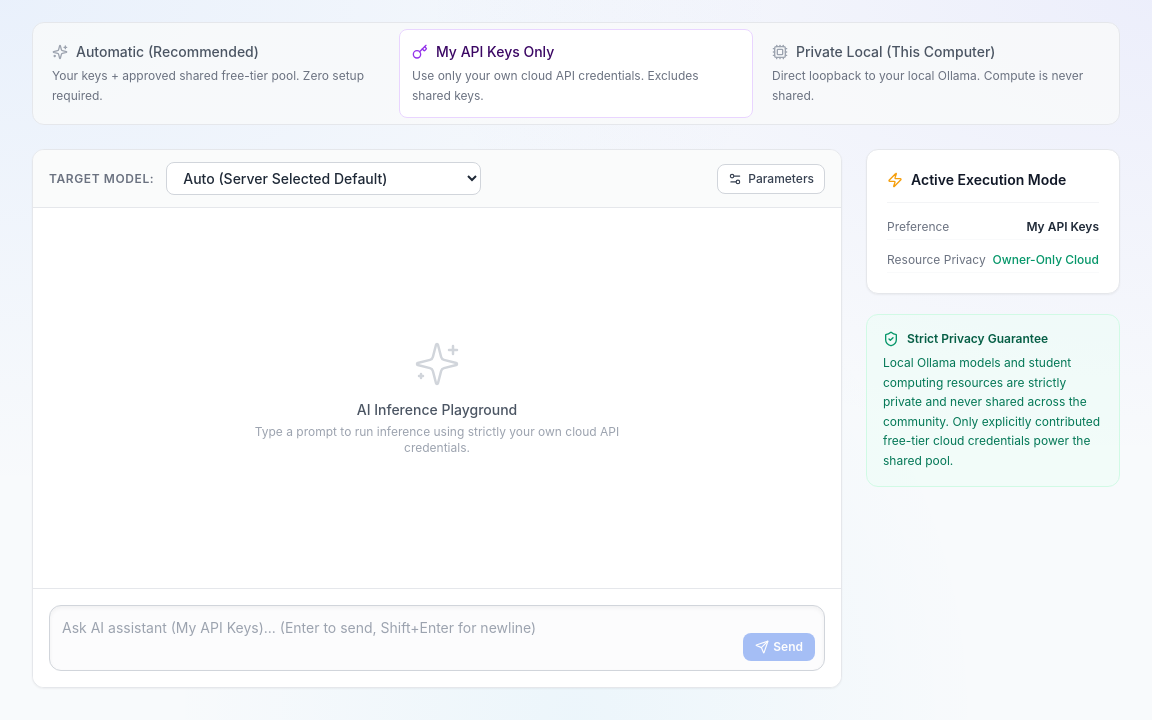
Test case: LocalInferencePage Component › submits cloud inference with credential_scope: 'owner_only' in My API Keys Only mode
The width and height of the screenshot is (1152, 720).
(page scrolled)
Replace the text in the text box with "Private cloud query" at (437, 638), box [49, 605, 825, 671]
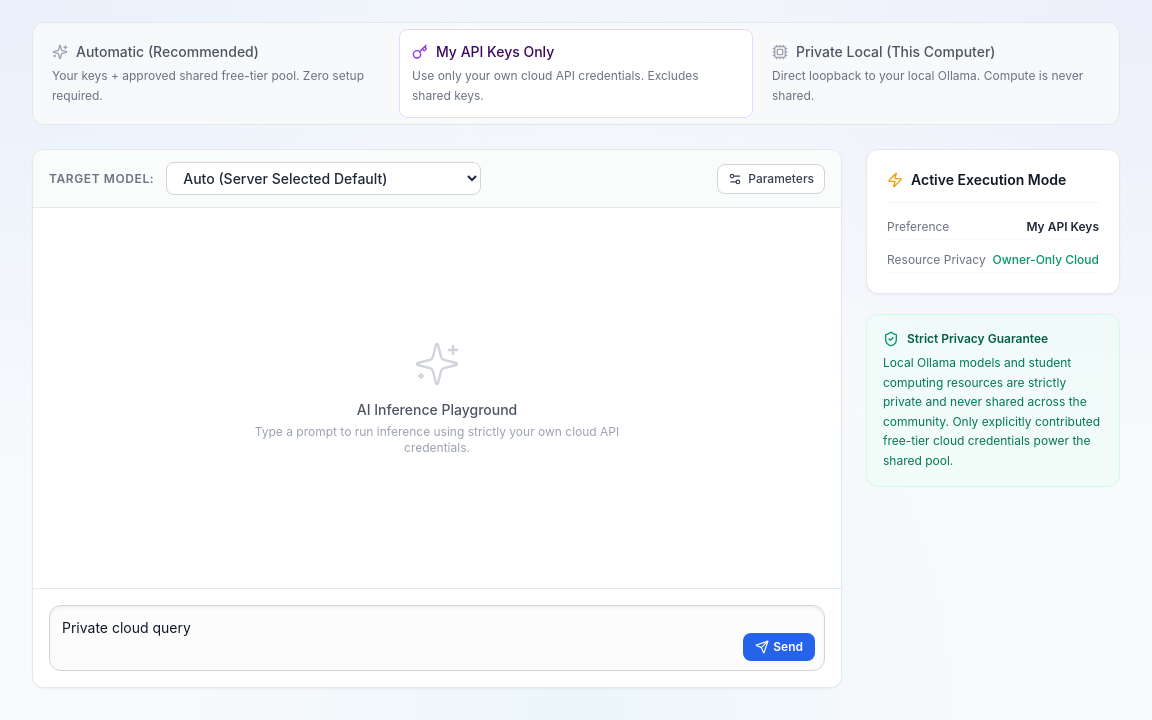
Click the button "Send".
click(779, 647)  # box [743, 633, 815, 661]
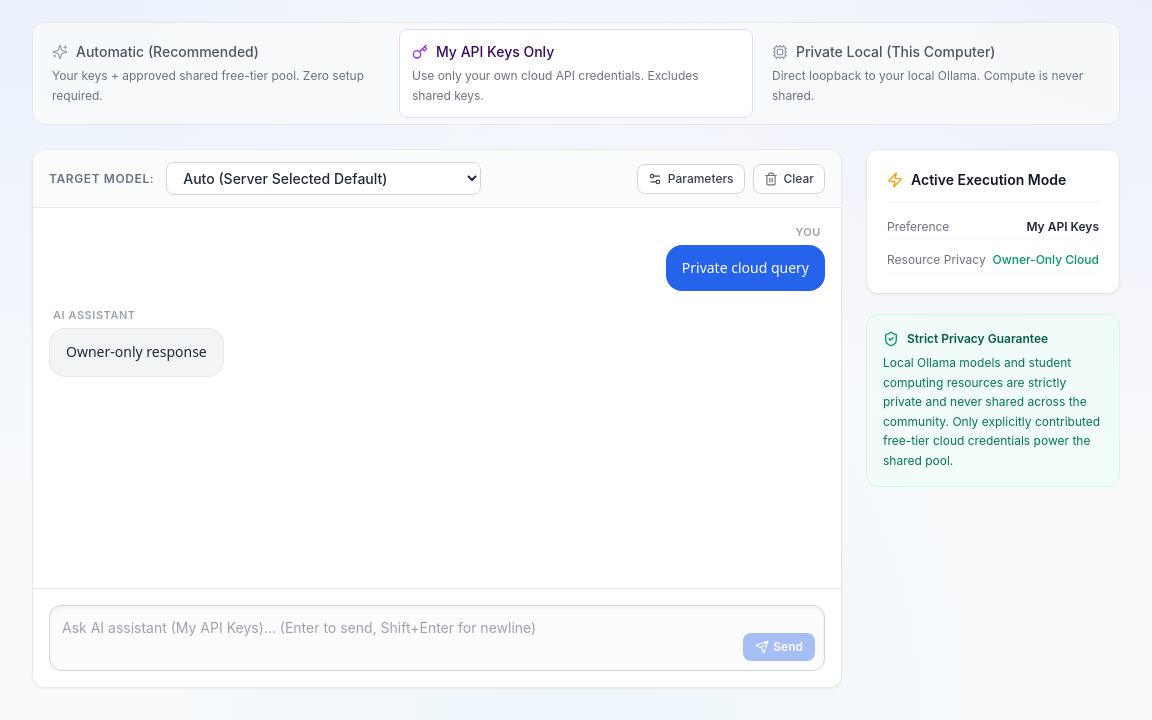
Check: the text "Owner-only response" is shown, box [66, 341, 207, 364]
